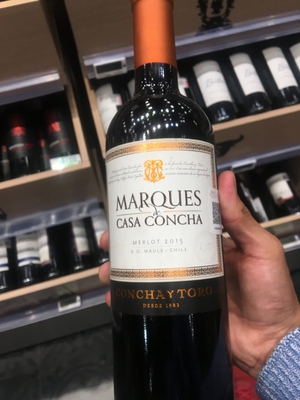marques de casa concha merlot: (98, 4, 245, 390)
